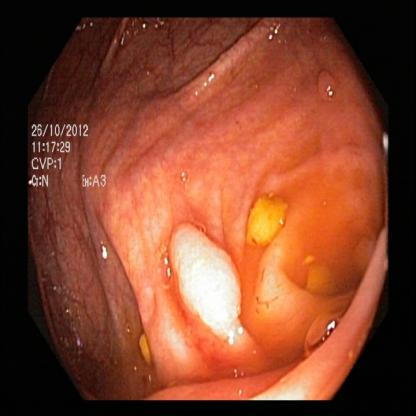Labels: (28, 108, 112, 206)
Polyps: (160, 214, 302, 351)
